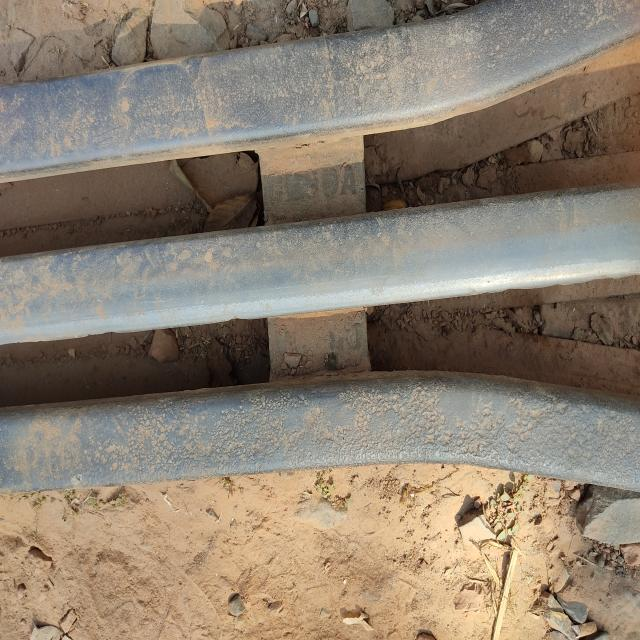non-defective: (194, 33, 448, 495)
